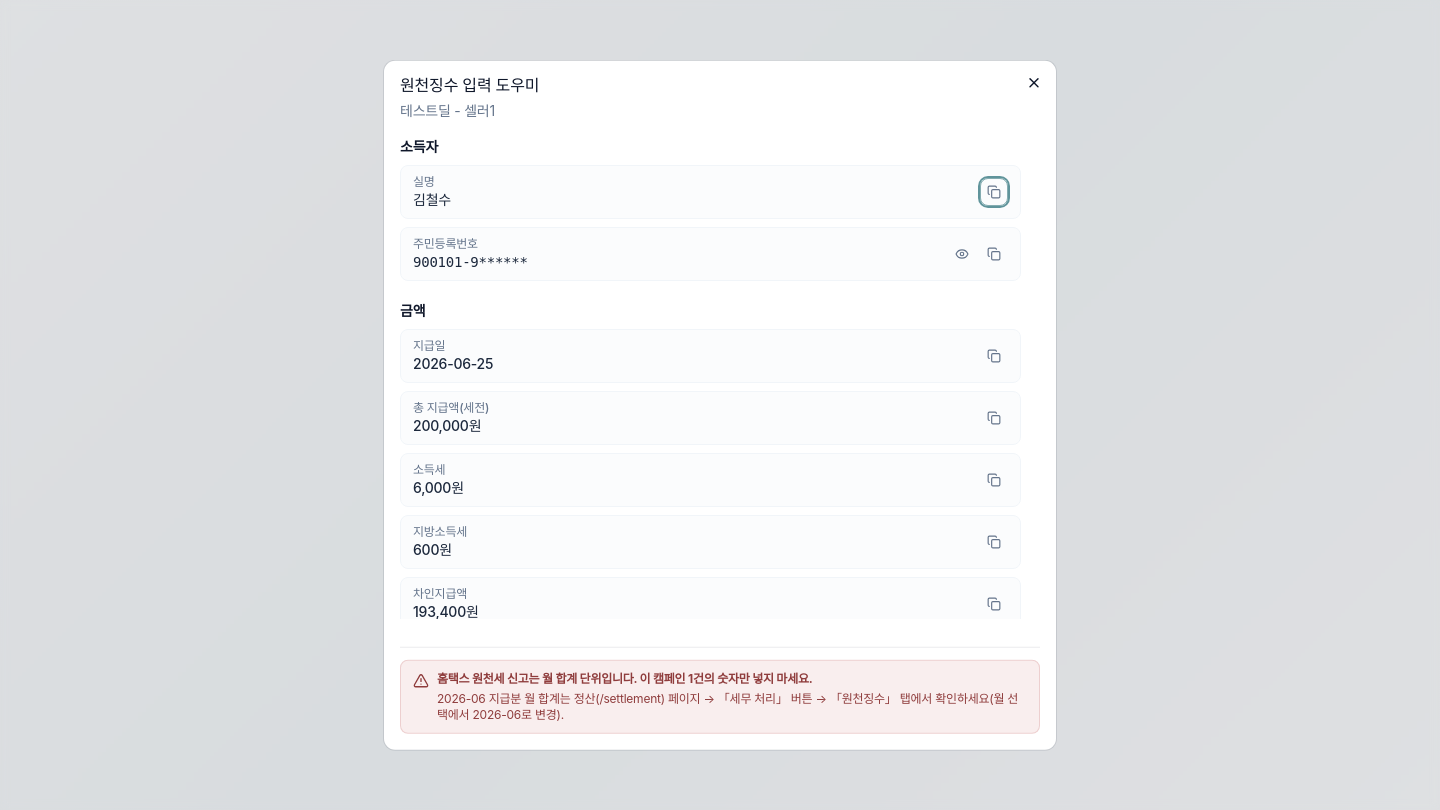
원천징수 입력 도우미 › 주민등록번호는 기본 마스킹이고, 펼침 버튼을 눌러야 원본이 보인다
This screenshot has width=1440, height=810.
Expected: the text "900101-9234567" is not shown
Expected: the text "900101-9******" is shown, 413,254 -> 528,270
Click the button named "주민등록번호 보기" at {"x": 962, "y": 254}, box 948,240 -> 976,268
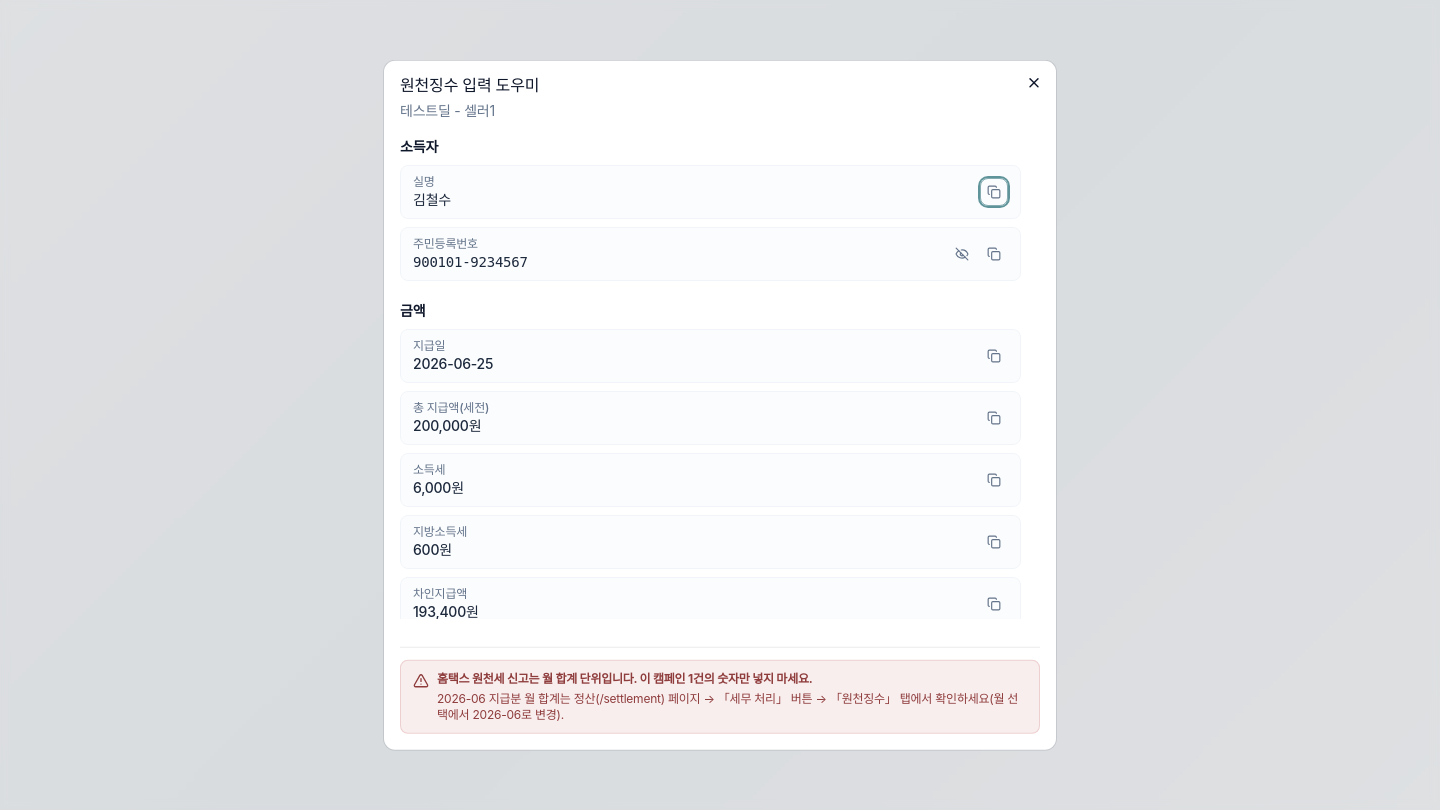
Expected: the text "900101-9234567" is shown, 413,254 -> 528,270
Expected: the text "900101-9******" is gone
